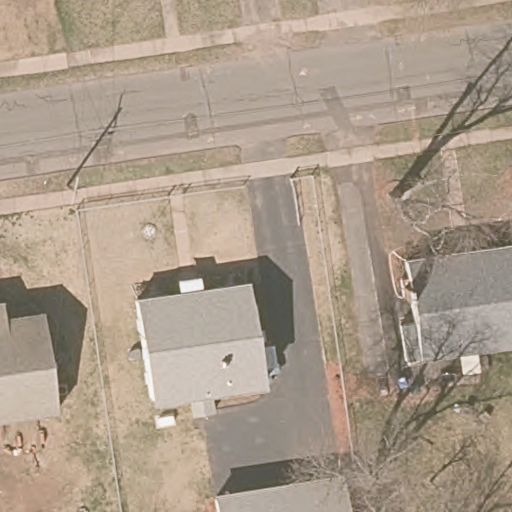DT: (64, 176, 80, 217)
